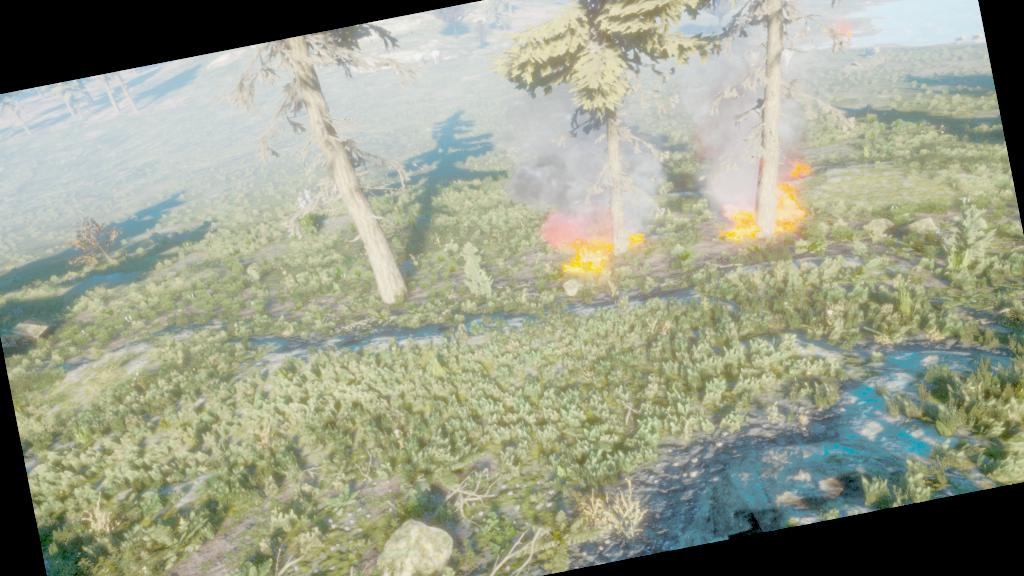Fire: (545, 205, 643, 282), (770, 154, 822, 238), (710, 190, 764, 246), (830, 10, 858, 42)
smoke: (508, 96, 616, 218), (687, 64, 759, 199), (606, 109, 672, 232), (776, 98, 805, 162)
